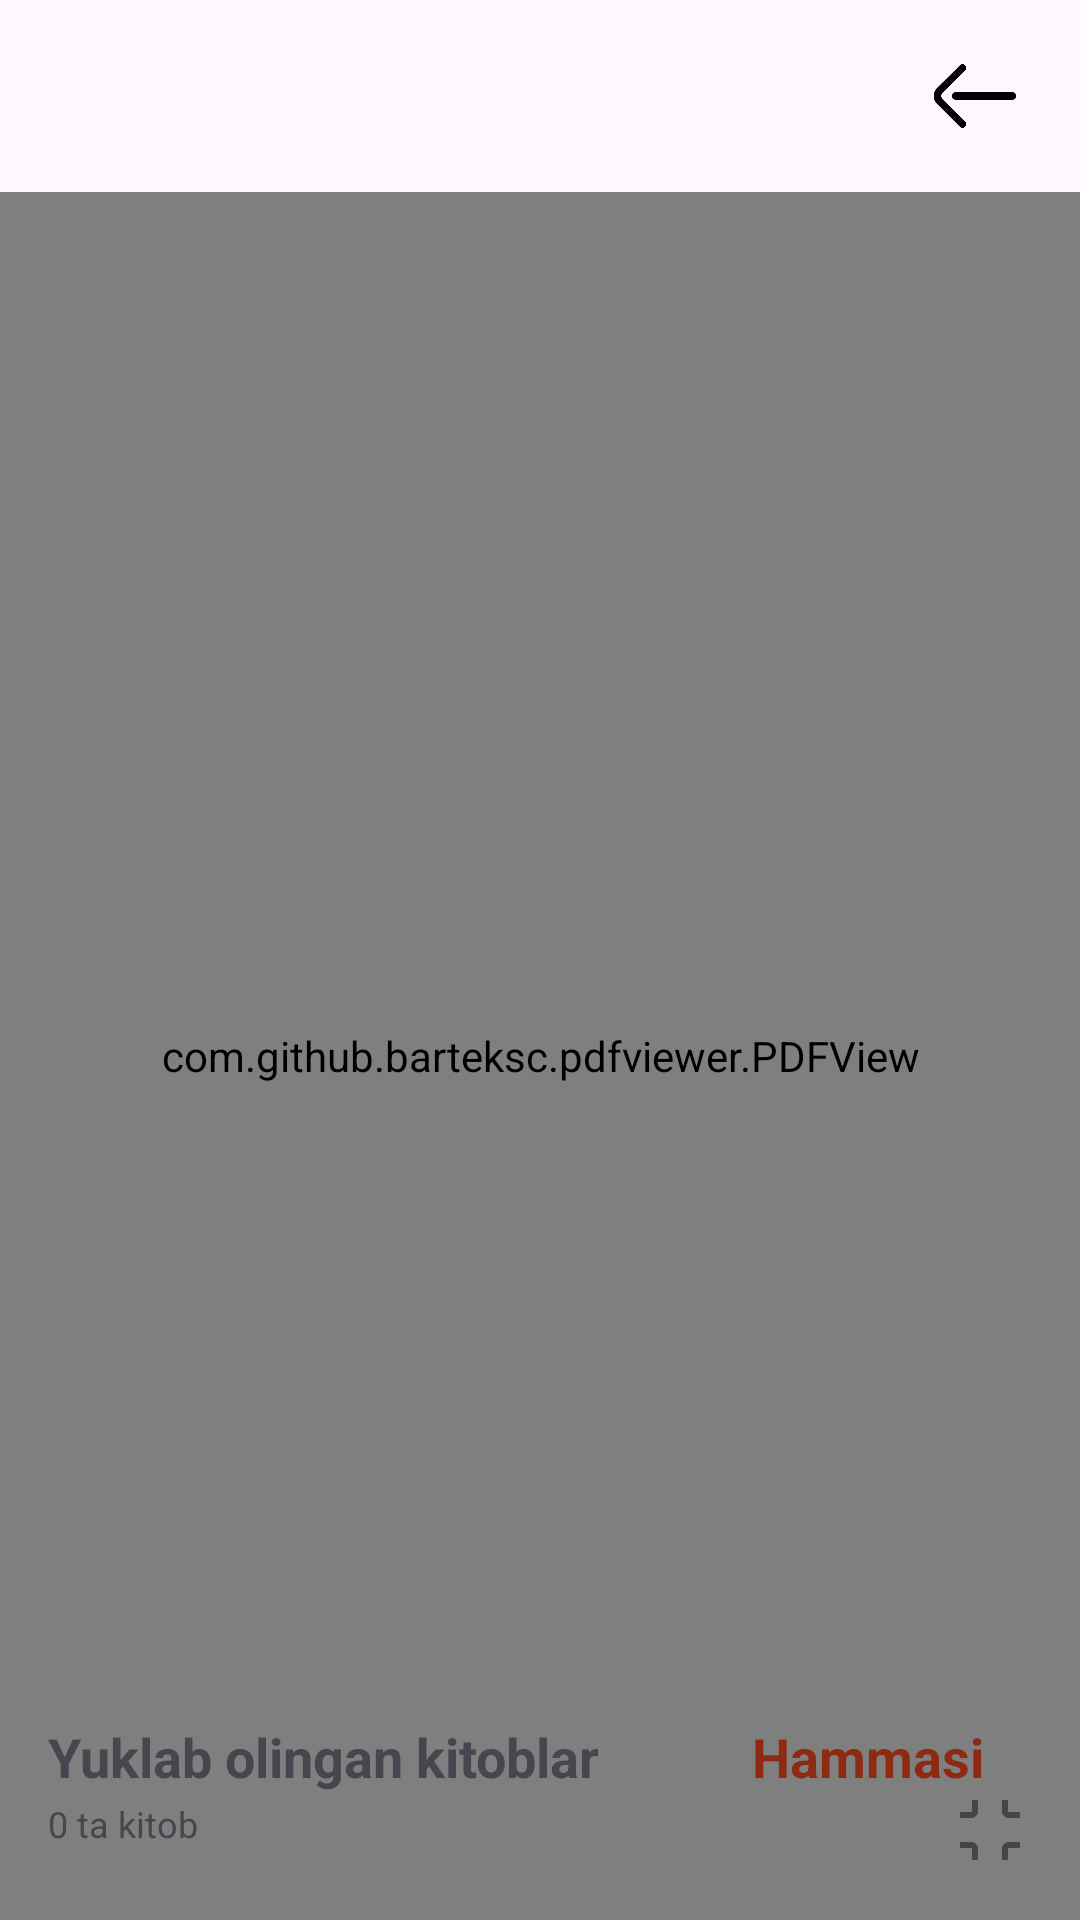

Named icons in this screenshot (1080*1920) and their bounding boxes, (x1, y1, x2, y2):
back: (934, 64, 1016, 128)
screen: (960, 1800, 1020, 1860)
